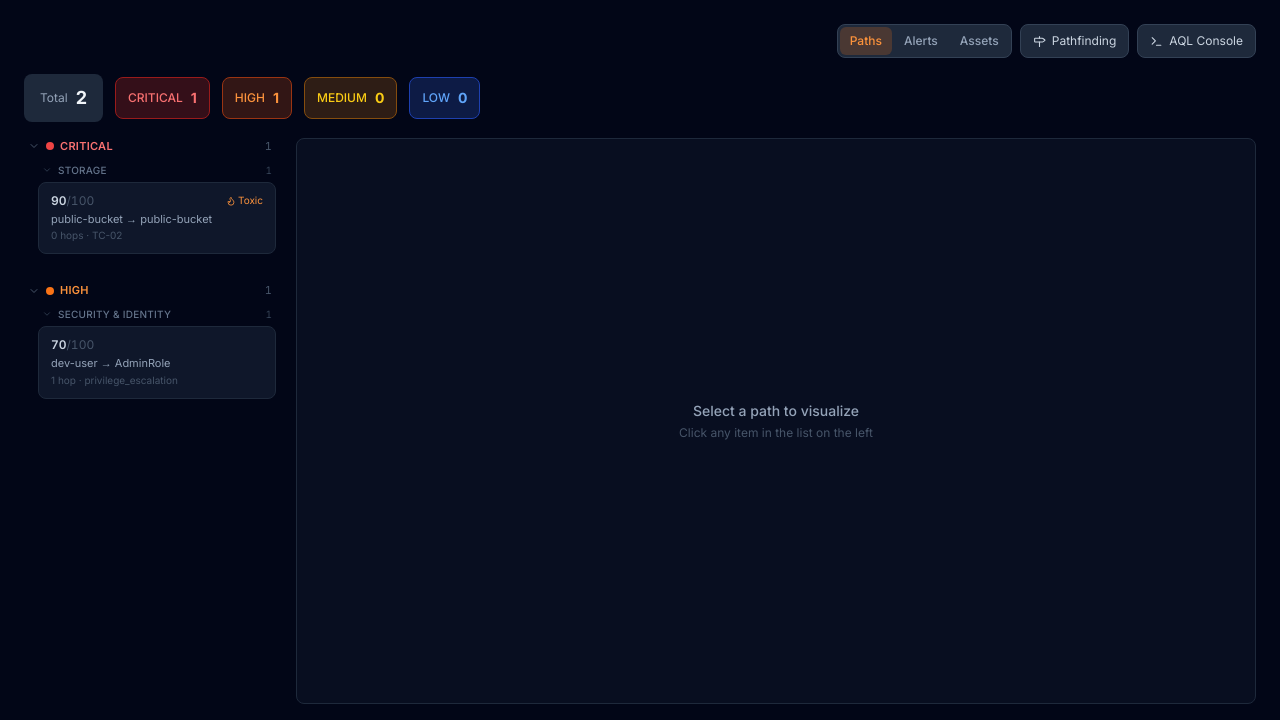
AttackPathsPage — View Results By toggle › switches to Alerts view and groups by rule
Expected: the text "Storage" is shown, [58,162,107,178]
Step 1. Click the button "Alerts" → (921, 41), box [894,27,948,55]
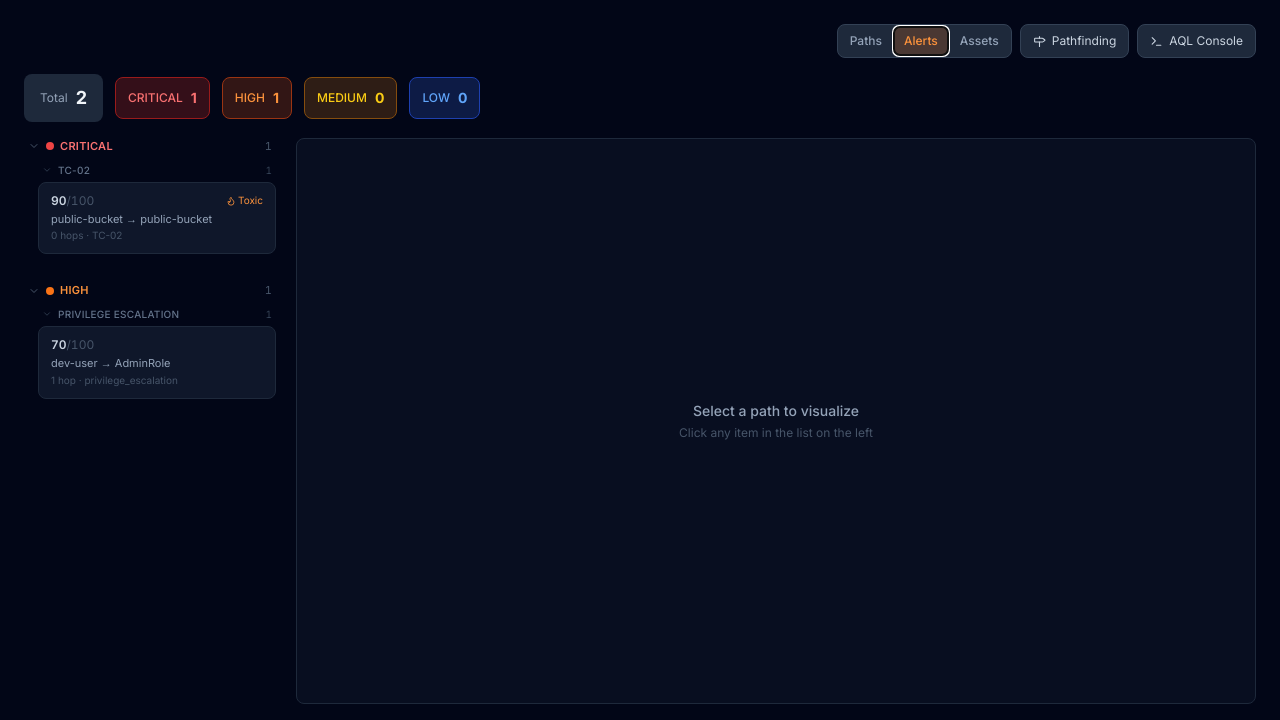
Expected: the text "TC-02" is shown, [58,162,90,178]
Expected: the text "Privilege Escalation" is shown, [58,307,179,322]
Expected: the button "Storage" is gone
